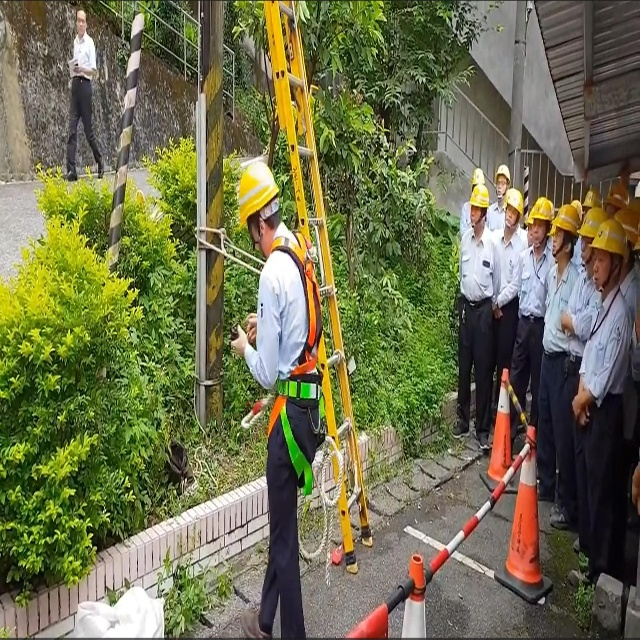Arnes_seguridad: (263, 224, 326, 530)
